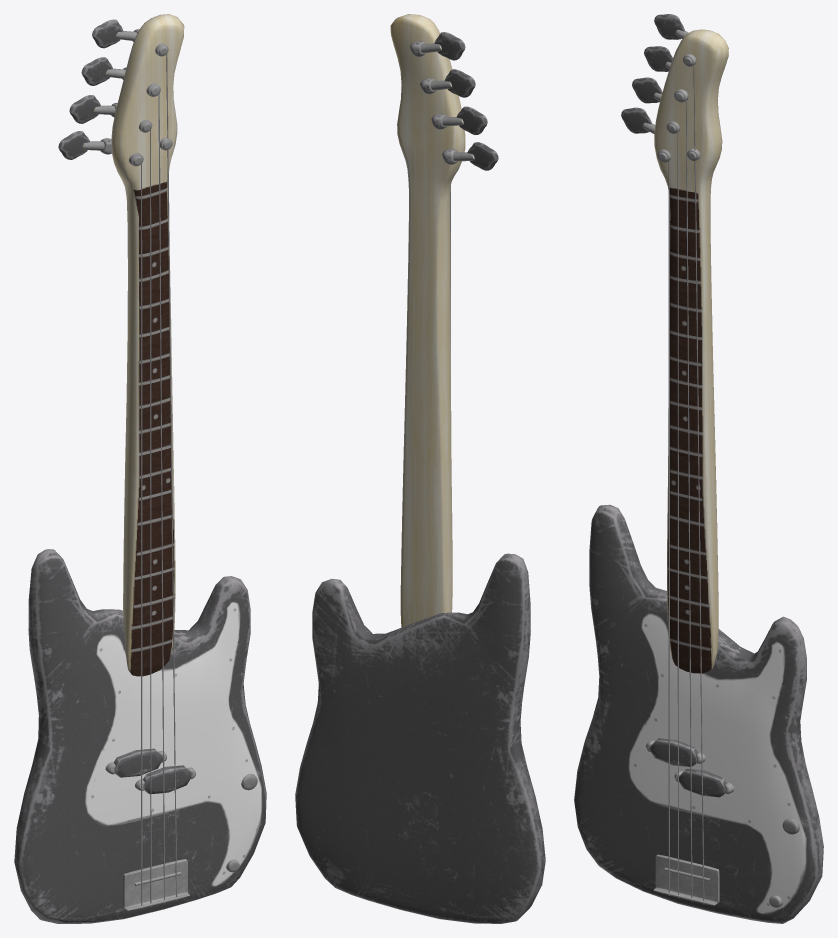
The model's file is Guitar.fbx.
The picture shows the model from 3 angles, left to right: view 1: azimuth 30°, elevation 25°; view 2: azimuth 150°, elevation 25°; view 3: azimuth 330°, elevation 25°; orthographic projection.
Parts seen in each view (by area): view 1: Guitar; view 2: Guitar; view 3: Guitar.
Boxes of the visible parts, x1=… form: Guitar: x1=14, y1=14, x2=266, y2=923; Guitar: x1=295, y1=14, x2=545, y2=923; Guitar: x1=574, y1=14, x2=823, y2=923.
Size of the model in its own units: 29.5 by 101 by 5.2.
